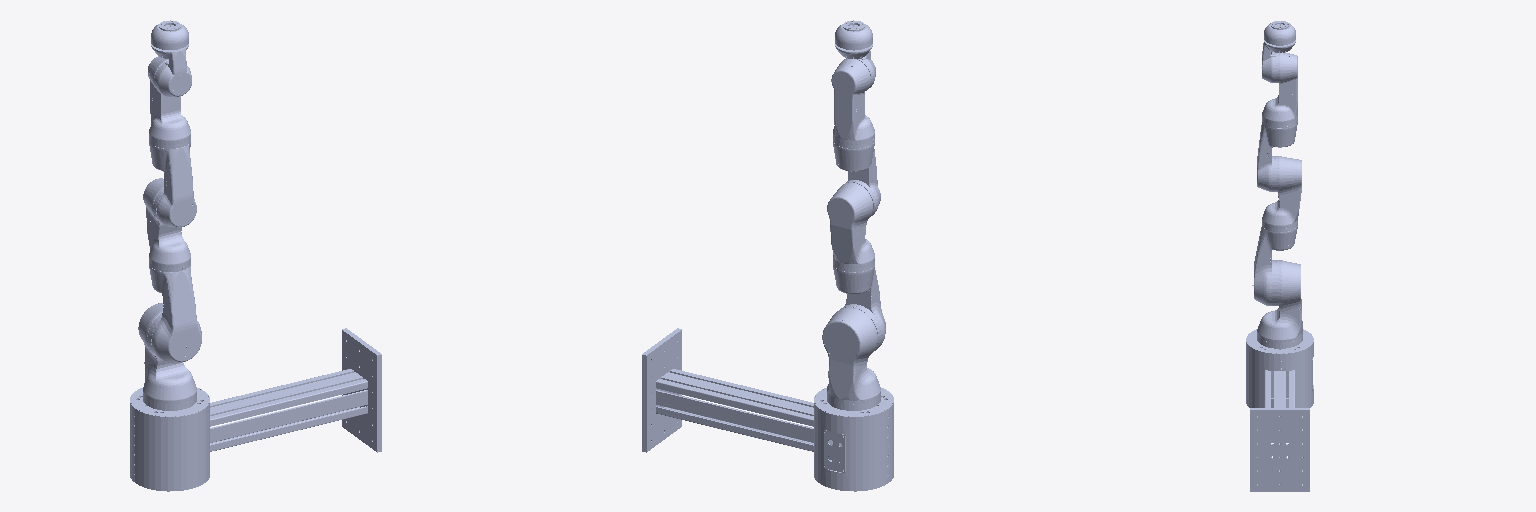
robot.urdf — l_robot:
<?xml version="1.0" encoding="utf-8"?>
<!-- This URDF was automatically created by SolidWorks to URDF Exporter! Originally created by [author] ([email redacted]) 
     Commit Version: 1.6.0-4-g7f85cfe  Build Version: 1.6.7995.38578
     For more information, please see http://wiki.ros.org/sw_urdf_exporter -->
<robot
  name="l_robot">
  <link
    name="base_link">
    <inertial>
      <origin
        xyz="0.0288244297796101 9.15758418819429E-05 3.33337614415248E-06"
        rpy="0 0 0" />
      <mass
        value="47.2278414825512" />
      <inertia
        ixx="20.2855091609073"
        ixy="0.000126569938505645"
        ixz="-0.00694088342846659"
        iyy="20.9162008161584"
        iyz="-0.000294535995843831"
        izz="0.737345947031001" />
    </inertial>
    <visual>
      <origin
        xyz="0 0 0"
        rpy="0 0 0" />
      <geometry>
        <mesh
          filename="package://双臂_1SLDASM/meshes/base_link.STL" />
      </geometry>
      <material
        name="">
        <color
          rgba="0.792156862745098 0.819607843137255 0.933333333333333 1" />
      </material>
    </visual>
    <collision>
      <origin
        xyz="0 0 0"
        rpy="0 0 0" />
      <geometry>
        <mesh
          filename="package://双臂_1SLDASM/meshes/base_link.STL" />
      </geometry>
    </collision>
  </link>
  <link
    name="l_link_1">
    <inertial>
      <origin
        xyz="-9.15758418881289E-05 -0.0288244297796053 -0.322603333376142"
        rpy="0 0 0" />
      <mass
        value="47.2278414825512" />
      <inertia
        ixx="20.9162008161584"
        ixy="0.000126569938505517"
        ixz="-0.000294535995801242"
        iyy="20.2855091609073"
        iyz="-0.00694088342850871"
        izz="0.737345947031001" />
    </inertial>
    <visual>
      <origin
        xyz="0 0 0"
        rpy="0 0 0" />
      <geometry>
        <mesh
          filename="package://双臂_1SLDASM/meshes/l_link_1.STL" />
      </geometry>
      <material
        name="">
        <color
          rgba="0.792156862745098 0.819607843137255 0.933333333333333 1" />
      </material>
    </visual>
    <collision>
      <origin
        xyz="0 0 0"
        rpy="0 0 0" />
      <geometry>
        <mesh
          filename="package://双臂_1SLDASM/meshes/l_link_1.STL" />
      </geometry>
    </collision>
  </link>
  <joint
    name="l_joint_1"
    type="continuous">
    <origin
      xyz="0 0 0.322599999999998"
      rpy="0 0 0" />
    <parent
      link="base_link" />
    <child
      link="l_link_1" />
    <axis
      xyz="0 0 1" />
    <hardware id="0" type="driver">
      <limit lower="-2.8274333882" upper="2.8274333882" effort="0" velocity="0" />
      <transform ratio="1.0" offset_pos_cnt="0" cnt_per_unit="[phone redacted]" torque_per_unit="1.0" user_unit_name="rad"/>
      <inputs name="Inputs">
        <status_word>Statusword</status_word>
        <position_actual_value>Position actual value</position_actual_value>
        <velocity_actual_value>Velocity actual value</velocity_actual_value>
        <!-- <torque_actual_value>Torque actual value</torque_actual_value> -->
        <load_torque_value>Analog Input 1</load_torque_value>
         <secondary_position_value>Auxiliary position actual value</secondary_position_value> 
        <!--  <secondary_velocity_value>Secondary velocity value</secondary_velocity_value>  -->
      </inputs>
      <outputs name="Outputs">
        <control_word>Controlword</control_word>
        <mode_of_operation>Modes of operation</mode_of_operation>
        <target_position>Target position</target_position>
        <target_velocity>Target velocity</target_velocity>
        <!-- <target_torque>Target torque</target_torque> -->
      </outputs>
    </hardware>
  </joint>
  <link
    name="l_link_2">
    <inertial>
      <origin
        xyz="-9.15758418881289E-05 -0.322603333376142 0.0288244297796049"
        rpy="0 0 0" />
      <mass
        value="47.2278414825512" />
      <inertia
        ixx="20.9162008161584"
        ixy="-0.000294535995801242"
        ixz="-0.000126569938505517"
        iyy="0.737345947031001"
        iyz="0.00694088342848184"
        izz="20.2855091609073" />
    </inertial>
    <visual>
      <origin
        xyz="0 0 0"
        rpy="0 0 0" />
      <geometry>
        <mesh
          filename="package://双臂_1SLDASM/meshes/l_link_2.STL" />
      </geometry>
      <material
        name="">
        <color
          rgba="0.792156862745098 0.819607843137255 0.933333333333333 1" />
      </material>
    </visual>
    <collision>
      <origin
        xyz="0 0 0"
        rpy="0 0 0" />
      <geometry>
        <mesh
          filename="package://双臂_1SLDASM/meshes/l_link_2.STL" />
      </geometry>
    </collision>
  </link>
  <joint
    name="l_joint_2"
    type="continuous">
    <origin
      xyz="0 0 0"
      rpy="1.5707963267949 0 0" />
    <parent
      link="l_link_1" />
    <child
      link="l_link_2" />
    <axis
      xyz="0 0 1" />
      <hardware id="1" type="driver">
      <limit lower="-2.3038346126" upper="2.3038346126" effort="0" velocity="0" />
      <transform ratio="1.0" offset_pos_cnt="0" cnt_per_unit="[phone redacted]" torque_per_unit="1.0" user_unit_name="rad"/>
      <inputs name="Inputs">
        <status_word>Statusword</status_word>
        <position_actual_value>Position actual value</position_actual_value>
        <velocity_actual_value>Velocity actual value</velocity_actual_value>
        <!-- <torque_actual_value>Torque actual value</torque_actual_value> -->
        <load_torque_value>Analog Input 1</load_torque_value>
         <secondary_position_value>Auxiliary position actual value</secondary_position_value> 
        <!--  <secondary_velocity_value>Secondary velocity value</secondary_velocity_value>  -->
      </inputs>
      <outputs name="Outputs">
        <control_word>Controlword</control_word>
        <mode_of_operation>Modes of operation</mode_of_operation>
        <target_position>Target position</target_position>
        <target_velocity>Target velocity</target_velocity>
        <!-- <target_torque>Target torque</target_torque> -->
      </outputs>
    </hardware>
  </joint>
  <link
    name="l_link_3">
    <inertial>
      <origin
        xyz="-9.1575841880522E-05 -0.028824429779605 -0.724103333376146"
        rpy="0 0 3.14" />
      <mass
        value="47.2278414825512" />
      <inertia
        ixx="20.9162008161584"
        ixy="0.000126569938505649"
        ixz="-0.000294535995829486"
        iyy="20.2855091609073"
        iyz="-0.00694088342853817"
        izz="0.737345947031001" />
    </inertial>
    <visual>
      <origin
        xyz="0 0 0"
        rpy="0 0 3.14" />
      <geometry>
        <mesh
          filename="package://双臂_1SLDASM/meshes/l_link_3.STL" />
      </geometry>
      <material
        name="">
        <color
          rgba="0.792156862745098 0.819607843137255 0.933333333333333 1" />
      </material>
    </visual>
    <collision>
      <origin
        xyz="0 0 0"
        rpy="0 0 0" />
      <geometry>
        <mesh
          filename="package://双臂_1SLDASM/meshes/l_link_3.STL" />
      </geometry>
    </collision>
  </link>
  <joint
    name="l_joint_3"
    type="continuous">
    <origin
      xyz="0 0.401500000000004 0"
      rpy="-1.57079632679489 0 0" />
    <parent
      link="l_link_2" />
    <child
      link="l_link_3" />
    <axis
      xyz="0 0 1" />
    <hardware id="2" type="driver">
      <limit lower="-2.7750735107" upper="2.7750735107" effort="0" velocity="0" />
      <transform ratio="1.0" offset_pos_cnt="0" cnt_per_unit="[phone redacted]" torque_per_unit="1.0" user_unit_name="rad"/>
      <inputs name="Inputs">
        <status_word>Statusword</status_word>
        <position_actual_value>Position actual value</position_actual_value>
        <velocity_actual_value>Velocity actual value</velocity_actual_value>
        <!-- <torque_actual_value>Torque actual value</torque_actual_value> -->
        <load_torque_value>Analog Input 1</load_torque_value>
         <secondary_position_value>Auxiliary position actual value</secondary_position_value> 
        <!--  <secondary_velocity_value>Secondary velocity value</secondary_velocity_value>  -->
      </inputs>
      <outputs name="Outputs">
        <control_word>Controlword</control_word>
        <mode_of_operation>Modes of operation</mode_of_operation>
        <target_position>Target position</target_position>
        <target_velocity>Target velocity</target_velocity>
        <!-- <target_torque>Target torque</target_torque> -->
      </outputs>
    </hardware>
  </joint>
  <link
    name="l_link_4">
    <inertial>
      <origin
        xyz="-9.15758418805165E-05 -0.724103333376146 0.0288244297796043"
        rpy="0 3.14 0" />
      <mass
        value="47.2278414825512" />
      <inertia
        ixx="20.9162008161584"
        ixy="-0.000294535995829484"
        ixz="-0.000126569938505768"
        iyy="0.737345947031001"
        iyz="0.00694088342852134"
        izz="20.2855091609073" />
    </inertial>
    <visual>
      <origin
        xyz="0 0 0"
        rpy="0 -3.14 0" />
      <geometry>
        <mesh
          filename="package://双臂_1SLDASM/meshes/l_link_4.STL" />
      </geometry>
      <material
        name="">
        <color
          rgba="0.792156862745098 0.819607843137255 0.933333333333333 1" />
      </material>
    </visual>
    <collision>
      <origin
        xyz="0 0 0"
        rpy="0 0 0" />
      <geometry>
        <mesh
          filename="package://双臂_1SLDASM/meshes/l_link_4.STL" />
      </geometry>
    </collision>
  </link>
  <joint
    name="l_joint_4"
    type="continuous">
    <origin
      xyz="0 0 0"
      rpy="1.5707963267949 0 0" />
    <parent
      link="l_link_3" />
    <child
      link="l_link_4" />
    <axis
      xyz="0 0 1" />
    <hardware id="3" type="driver">
      <limit lower="-2.3038346126" upper="2.3038346126" effort="0" velocity="0" />
      <transform ratio="1.0" offset_pos_cnt="0" cnt_per_unit="[phone redacted]" torque_per_unit="1.0" user_unit_name="rad"/>
      <inputs name="Inputs">
        <status_word>Statusword</status_word>
        <position_actual_value>Position actual value</position_actual_value>
        <velocity_actual_value>Velocity actual value</velocity_actual_value>
        <!-- <torque_actual_value>Torque actual value</torque_actual_value> -->
        <load_torque_value>Analog Input 1</load_torque_value>
         <secondary_position_value>Auxiliary position actual value</secondary_position_value> 
        <!--  <secondary_velocity_value>Secondary velocity value</secondary_velocity_value>  -->
      </inputs>
      <outputs name="Outputs">
        <control_word>Controlword</control_word>
        <mode_of_operation>Modes of operation</mode_of_operation>
        <target_position>Target position</target_position>
        <target_velocity>Target velocity</target_velocity>
        <!-- <target_torque>Target torque</target_torque> -->
      </outputs>
    </hardware>
  </joint>
  <link
    name="l_link_5">
    <inertial>
      <origin
        xyz="-9.15758418803473E-05 -0.0288244297796049 -1.11560333337614"
        rpy="0 0 3.14" />
      <mass
        value="47.2278414825512" />
      <inertia
        ixx="20.9162008161584"
        ixy="0.00012656993850565"
        ixz="-0.000294535995826327"
        iyy="20.2855091609073"
        iyz="-0.00694088342853653"
        izz="0.737345947031001" />
    </inertial>
    <visual>
      <origin
        xyz="0 0 0"
        rpy="0 0 3.14" />
      <geometry>
        <mesh
          filename="package://双臂_1SLDASM/meshes/l_link_5.STL" />
      </geometry>
      <material
        name="">
        <color
          rgba="0.792156862745098 0.819607843137255 0.933333333333333 1" />
      </material>
    </visual>
    <collision>
      <origin
        xyz="0 0 0"
        rpy="0 0 0" />
      <geometry>
        <mesh
          filename="package://双臂_1SLDASM/meshes/l_link_5.STL" />
      </geometry>
    </collision>
  </link>
  <joint
    name="l_joint_5"
    type="continuous">
    <origin
      xyz="0 0.391499999999997 0"
      rpy="-1.5707963267949 0 0" />
    <parent
      link="l_link_4" />
    <child
      link="l_link_5" />
    <axis
      xyz="0 0 1" />
    <hardware id="4" type="driver">
      <limit lower="-2.8274333882" upper="2.8274333882" effort="0" velocity="0" />
      <transform ratio="1.0" offset_pos_cnt="0" cnt_per_unit="[phone redacted]" torque_per_unit="1.0" user_unit_name="rad"/>
      <inputs name="Inputs">
        <status_word>Statusword</status_word>
        <position_actual_value>Position actual value</position_actual_value>
        <velocity_actual_value>Velocity actual value</velocity_actual_value>
        <!-- <torque_actual_value>Torque actual value</torque_actual_value> -->
        <load_torque_value>Analog Input 1</load_torque_value>
         <secondary_position_value>Auxiliary position actual value</secondary_position_value> 
        <!--  <secondary_velocity_value>Secondary velocity value</secondary_velocity_value>  -->
      </inputs>
      <outputs name="Outputs">
        <control_word>Controlword</control_word>
        <mode_of_operation>Modes of operation</mode_of_operation>
        <target_position>Target position</target_position>
        <target_velocity>Target velocity</target_velocity>
        <!-- <target_torque>Target torque</target_torque> -->
      </outputs>
    </hardware>
  </joint>
  <link
    name="l_link_6">
    <inertial>
      <origin
        xyz="-9.15758418802753E-05 -1.11560333337614 0.028824429779605"
        rpy="0 3.14 0" />
      <mass
        value="47.2278414825512" />
      <inertia
        ixx="20.9162008161584"
        ixy="-0.000294535995826309"
        ixz="-0.000126569938507226"
        iyy="0.737345947031001"
        iyz="0.00694088342853817"
        izz="20.2855091609073" />
    </inertial>
    <visual>
      <origin
        xyz="0 0 0"
        rpy="0 3.14 0" />
      <geometry>
        <mesh
          filename="package://双臂_1SLDASM/meshes/l_link_6.STL" />
      </geometry>
      <material
        name="">
        <color
          rgba="0.792156862745098 0.819607843137255 0.933333333333333 1" />
      </material>
    </visual>
    <collision>
      <origin
        xyz="0 0 0"
        rpy="0 0 0" />
      <geometry>
        <mesh
          filename="package://双臂_1SLDASM/meshes/l_link_6.STL" />
      </geometry>
    </collision>
  </link>
  <joint
    name="l_joint_6"
    type="continuous">
    <origin
      xyz="0 0 0"
      rpy="1.5707963267949 0 0" />
    <parent
      link="l_link_5" />
    <child
      link="l_link_6" />
    <axis
      xyz="0 0 1" />
    <hardware id="5" type="driver">
      <limit lower="-2.0943951024" upper="2.0943951024" effort="0" velocity="0" />
      <transform ratio="1.0" offset_pos_cnt="0" cnt_per_unit="2086075.670094" torque_per_unit="1.0" user_unit_name="rad"/>
      <inputs name="Inputs">
        <status_word>Statusword</status_word>
        <position_actual_value>Position actual value</position_actual_value>
        <velocity_actual_value>Velocity actual value</velocity_actual_value>
        <!-- <torque_actual_value>Torque actual value</torque_actual_value> -->
        <load_torque_value>Analog Input 1</load_torque_value>
         <secondary_position_value>Auxiliary position actual value</secondary_position_value> 
        <!--  <secondary_velocity_value>Secondary velocity value</secondary_velocity_value>  -->
      </inputs>
      <outputs name="Outputs">
        <control_word>Controlword</control_word>
        <mode_of_operation>Modes of operation</mode_of_operation>
        <target_position>Target position</target_position>
        <target_velocity>Target velocity</target_velocity>
        <!-- <target_torque>Target torque</target_torque> -->
      </outputs>
    </hardware>
  </joint>
  <link
    name="l_link_7">
    <inertial>
      <origin
        xyz="-0.0213781158937068 -0.0193347433158388 -1.27320333337614"
        rpy="0 0 0" />
      <mass
        value="47.2278414825512" />
      <inertia
        ixx="20.5714004829771"
        ixy="-0.313967258043361"
        ixz="-0.00533123763014897"
        iyy="20.6303094940886"
        iyz="-0.00445426981134439"
        izz="0.737345947031001" />
    </inertial>
    <visual>
      <origin
        xyz="0 0 0"
        rpy="0 0 0" />
      <geometry>
        <mesh
          filename="package://双臂_1SLDASM/meshes/l_link_7.STL" />
      </geometry>
      <material
        name="">
        <color
          rgba="0.792156862745098 0.819607843137255 0.933333333333333 1" />
      </material>
    </visual>
    <collision>
      <origin
        xyz="0 0 0"
        rpy="0 0 0" />
      <geometry>
        <mesh
          filename="package://双臂_1SLDASM/meshes/l_link_7.STL" />
      </geometry>
    </collision>
  </link>
  <joint
    name="l_joint_7"
    type="continuous">
    <origin
      xyz="0 0.1576 0"
      rpy="-1.5707963267949 0 0" />
    <parent
      link="l_link_6" />
    <child
      link="l_link_7" />
    <axis
      xyz="0 0 1" />
    <hardware id="6" type="driver">
      <limit lower="-2.8274333882" upper="2.8274333882" effort="0" velocity="0" />
      <transform ratio="1.0" offset_pos_cnt="0" cnt_per_unit="2086075.670094" torque_per_unit="1.0" user_unit_name="rad"/>
      <inputs name="Inputs">
        <status_word>Statusword</status_word>
        <position_actual_value>Position actual value</position_actual_value>
        <velocity_actual_value>Velocity actual value</velocity_actual_value>
        <!-- <torque_actual_value>Torque actual value</torque_actual_value> -->
        <load_torque_value>Analog Input 1</load_torque_value>
         <secondary_position_value>Auxiliary position actual value</secondary_position_value> 
        <!--  <secondary_velocity_value>Secondary velocity value</secondary_velocity_value>  -->
      </inputs>
      <outputs name="Outputs">
        <control_word>Controlword</control_word>
        <mode_of_operation>Modes of operation</mode_of_operation>
        <target_position>Target position</target_position>
        <target_velocity>Target velocity</target_velocity>
        <!-- <target_torque>Target torque</target_torque> -->
      </outputs>
    </hardware>
  </joint>
</robot>

--- What the picture shows (computed from the rendered views, not written in the file) ---
Views: 3 orthographic renders of the robot side by side, from view 1: azimuth 30°, elevation 25°; view 2: azimuth 150°, elevation 25°; view 3: azimuth 270°, elevation 25°.
Model l_robot with 8 links and 7 joints (7 continuous), rooted at base_link, posed all joints at 0.
Links seen in each view (by area): view 1: base_link, l_link_2, l_link_1, l_link_4, l_link_3, l_link_5, l_link_6, l_link_7; view 2: base_link, l_link_1, l_link_3, l_link_5, l_link_2, l_link_4, l_link_7; view 3: base_link, l_link_1, l_link_3, l_link_2, l_link_5, l_link_4, l_link_6, l_link_7.
Boxes of the visible links, left/top/right/bottom form: base_link: left=130, top=328, right=381, bottom=491; l_link_2: left=147, top=266, right=201, bottom=363; l_link_1: left=138, top=303, right=196, bottom=410; l_link_4: left=149, top=142, right=196, bottom=227; l_link_3: left=143, top=178, right=190, bottom=271; l_link_5: left=148, top=56, right=190, bottom=148; l_link_6: left=151, top=44, right=191, bottom=96; l_link_7: left=151, top=20, right=188, bottom=49; base_link: left=642, top=328, right=893, bottom=491; l_link_1: left=822, top=307, right=880, bottom=410; l_link_3: left=827, top=182, right=874, bottom=271; l_link_5: left=831, top=58, right=874, bottom=148; l_link_2: left=833, top=266, right=885, bottom=351; l_link_4: left=833, top=142, right=880, bottom=217; l_link_7: left=835, top=20, right=872, bottom=50; base_link: left=1246, top=329, right=1313, bottom=491; l_link_1: left=1257, top=260, right=1302, bottom=348; l_link_3: left=1262, top=156, right=1301, bottom=231; l_link_2: left=1252, top=226, right=1297, bottom=305; l_link_5: left=1262, top=52, right=1297, bottom=127; l_link_4: left=1257, top=122, right=1297, bottom=191; l_link_6: left=1261, top=40, right=1295, bottom=82; l_link_7: left=1264, top=21, right=1295, bottom=45.
Size in the robot's own frame: 0.7415 by 0.2252 by 1.43 metres.
Meshes: 8 distinct files referenced, 8 mesh visuals loaded (8 binary STL).
